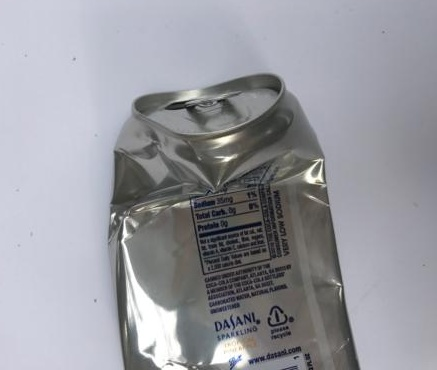Metal: (83, 81, 394, 360)
